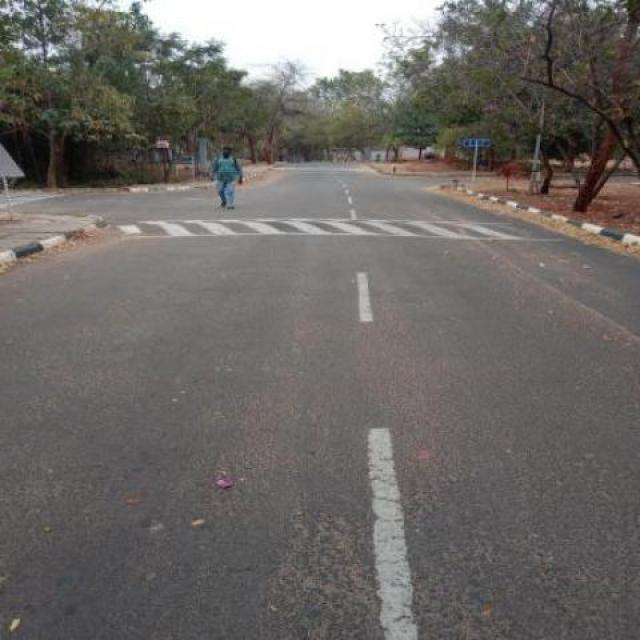Speed Bump: (99, 218, 550, 241)
